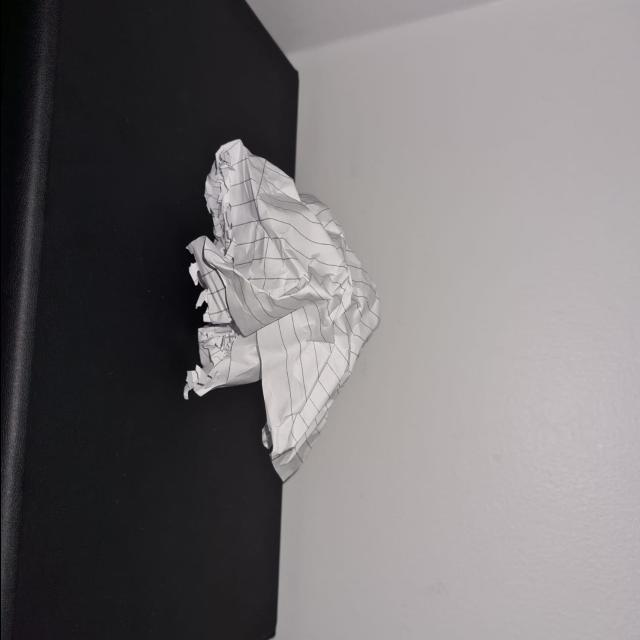kertas: (180, 130, 368, 488)
